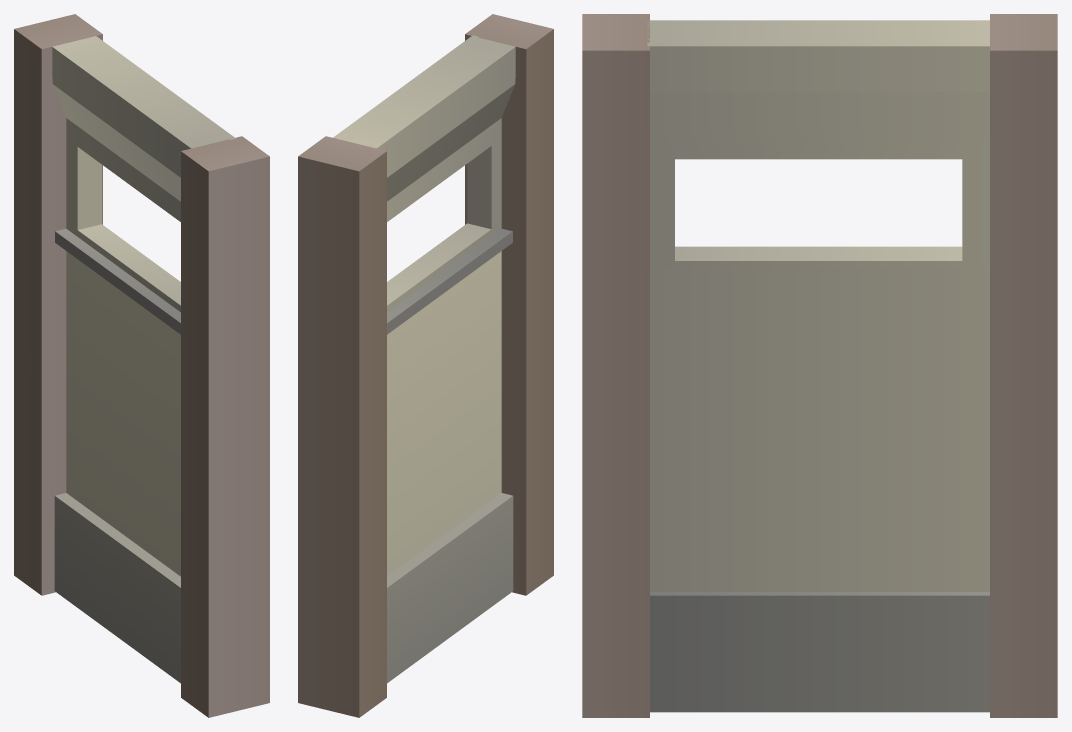
File: B01_fenetre_3.fbx
The picture shows the model from 3 angles, left to right: view 1: azimuth 30°, elevation 25°; view 2: azimuth 150°, elevation 25°; view 3: azimuth 270°, elevation 25°; orthographic projection. The views are drawn at different scales.
Parts seen in each view (by area): view 1: B01_fenetre_3; view 2: B01_fenetre_3; view 3: B01_fenetre_3.
Boxes of the visible parts, x1,y1,x2,y2 form: B01_fenetre_3: [14, 14, 269, 717]; B01_fenetre_3: [298, 14, 553, 717]; B01_fenetre_3: [582, 14, 1057, 717].
Size of the model in its own units: 35.78 by 305 by 197.
